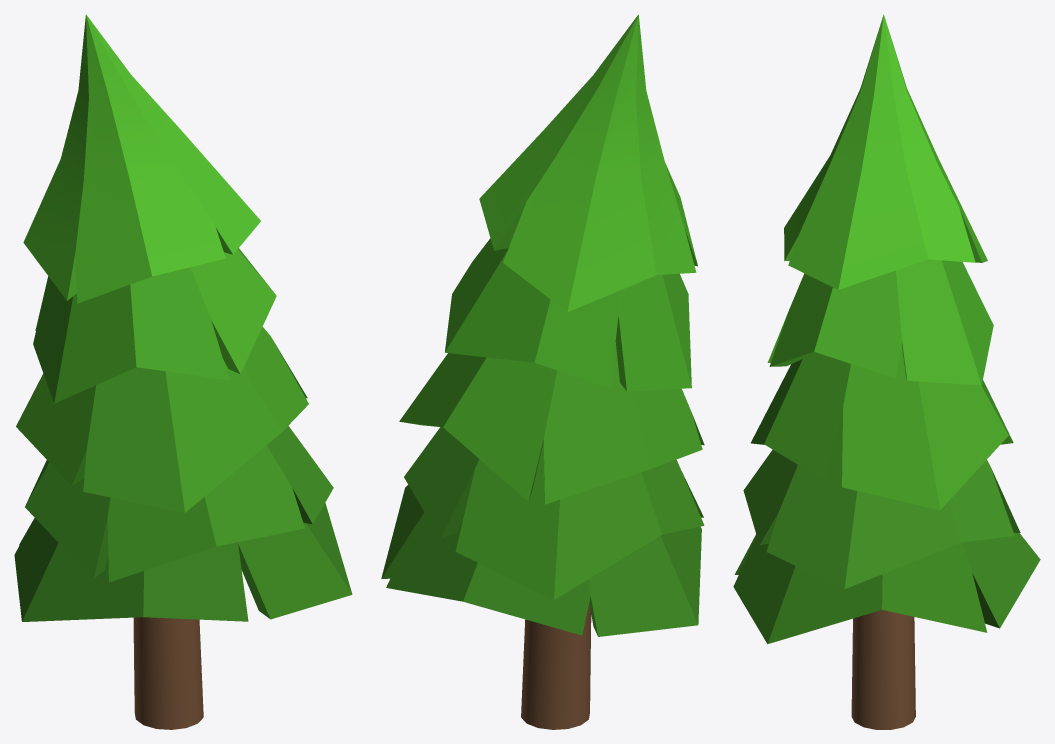
File: Spruce_Green_Thin_2.fbx
3 views of the same model, side by side, from view 1: azimuth 30°, elevation 25°; view 2: azimuth 150°, elevation 25°; view 3: azimuth 270°, elevation 25° (orthographic). The views are drawn at different scales.
Parts seen in each view (by area): view 1: Cylinder.309, Cylinder.308, Cylinder.307, Cylinder.028, Cylinder.306, Cylinder.027; view 2: Cylinder.309, Cylinder.308, Cylinder.306, Cylinder.307, Cylinder.028, Cylinder.027; view 3: Cylinder.309, Cylinder.308, Cylinder.306, Cylinder.307, Cylinder.028, Cylinder.027.
Boxes of the visible parts, x1,y1,x2,y2 form: Cylinder.309: (23,14,260,303); Cylinder.308: (16,327,308,512); Cylinder.307: (33,248,276,403); Cylinder.028: (14,503,352,621); Cylinder.306: (25,426,333,582); Cylinder.027: (133,617,203,729); Cylinder.309: (479,14,697,312); Cylinder.308: (399,342,704,504); Cylinder.306: (404,427,704,599); Cylinder.307: (445,238,691,391); Cylinder.028: (381,485,701,636); Cylinder.027: (521,603,591,729); Cylinder.309: (784,14,987,289); Cylinder.308: (751,345,1013,509); Cylinder.306: (743,436,1020,589); Cylinder.307: (767,259,993,385); Cylinder.028: (733,532,1040,644); Cylinder.027: (851,610,915,729).
Bounding box in the file's own units: 244 × 568 × 238.
